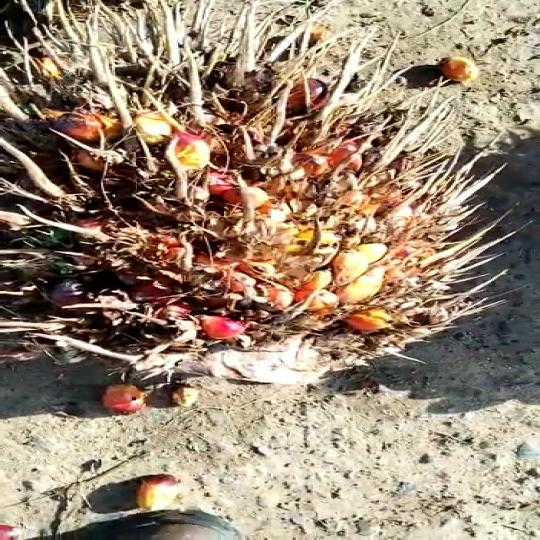terlalu masak: (0, 0, 508, 402)
